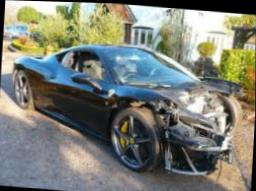Bonnet: (119, 78, 243, 129)
Bumper: (165, 116, 247, 175)
Light: (147, 103, 184, 126)
